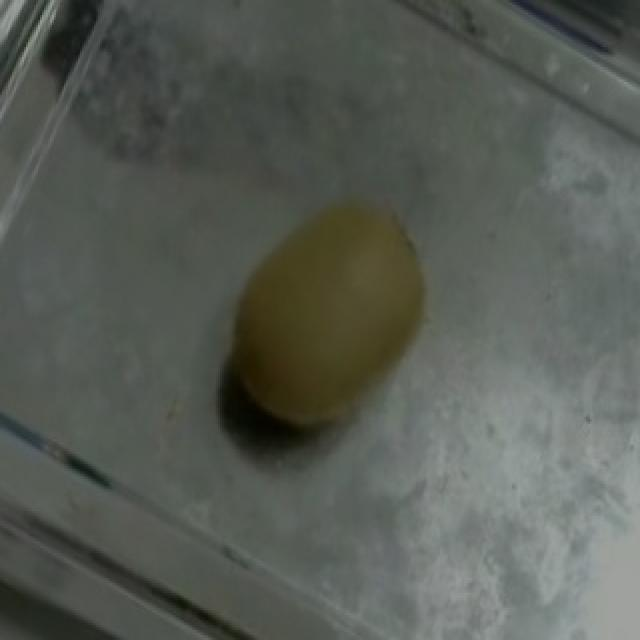Fruit: (176, 159, 472, 476)
